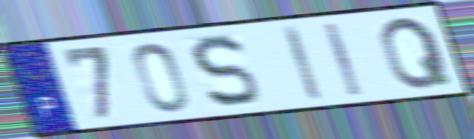0: (130, 39, 192, 115)
7: (59, 44, 115, 123)
I: (280, 23, 326, 104), (321, 21, 365, 99)
Q: (378, 14, 455, 92)
S: (187, 32, 263, 111)
